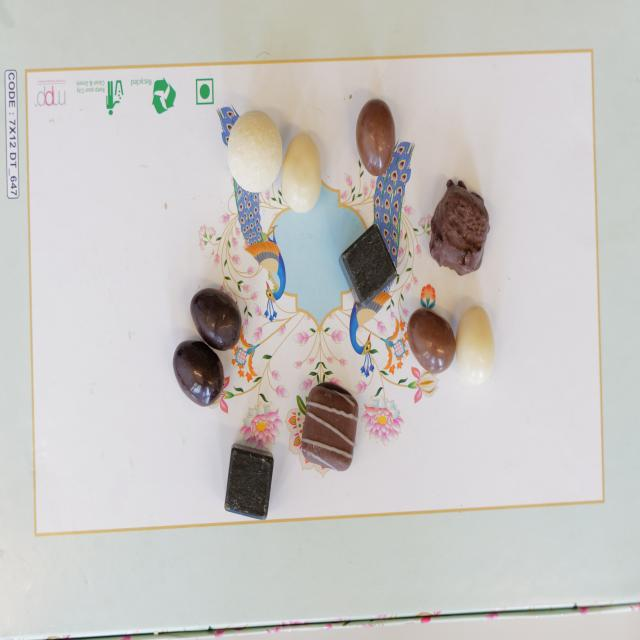Comtesse: (224, 110, 288, 195)
Jelly_Black: (171, 336, 227, 413), (187, 283, 245, 355)
Jelly_Milk: (404, 301, 457, 380), (358, 94, 398, 184)
Jelly_White: (454, 302, 498, 394), (282, 129, 327, 216)
Stracciatella: (298, 376, 360, 478)
Tentation_noir: (432, 171, 489, 284)
